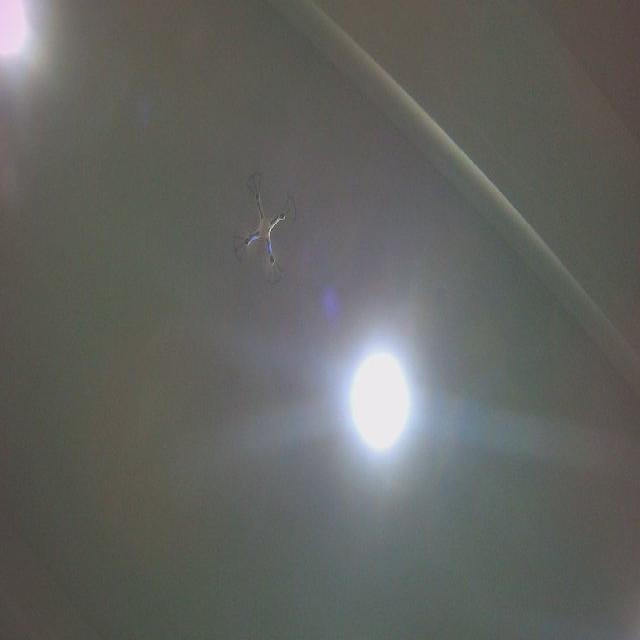drone: (230, 169, 301, 287)
